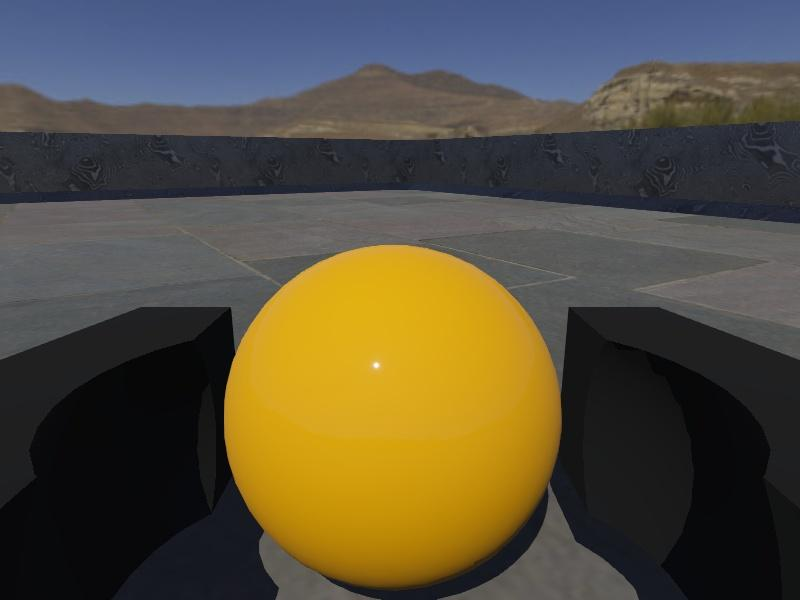orange ball: (222, 243, 564, 592)
